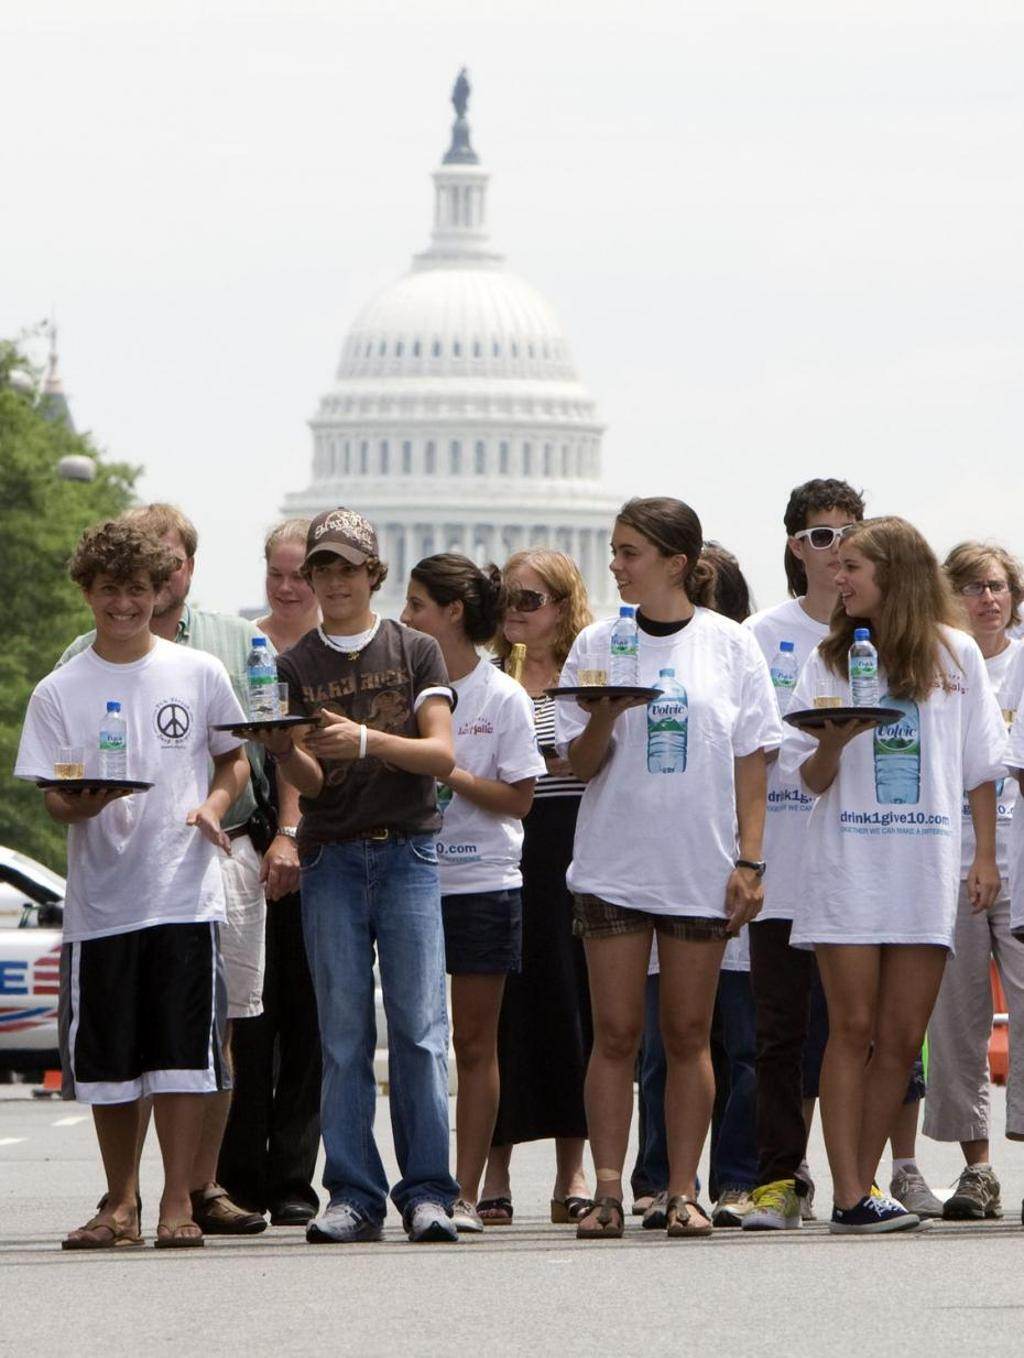face: (120, 537, 190, 617), (90, 563, 155, 640), (609, 527, 667, 602), (802, 509, 861, 584), (500, 570, 552, 642), (833, 542, 881, 617), (265, 554, 317, 622), (313, 561, 371, 620), (955, 571, 1011, 632), (398, 581, 446, 651)
